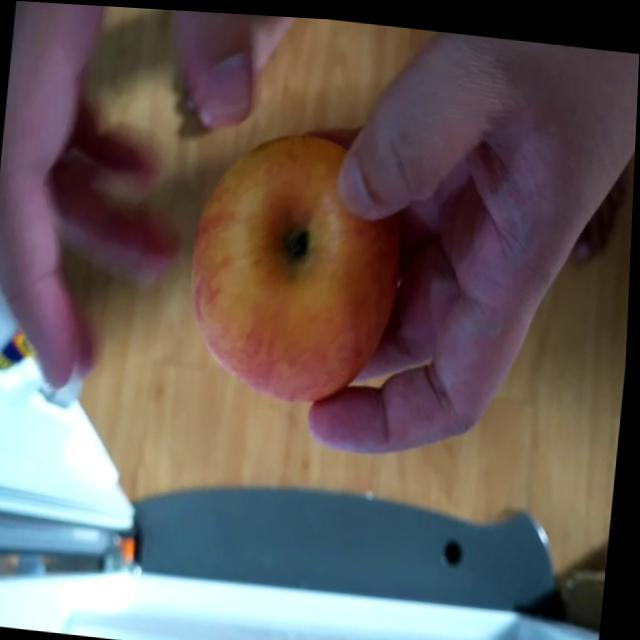apple: (180, 108, 415, 409)
